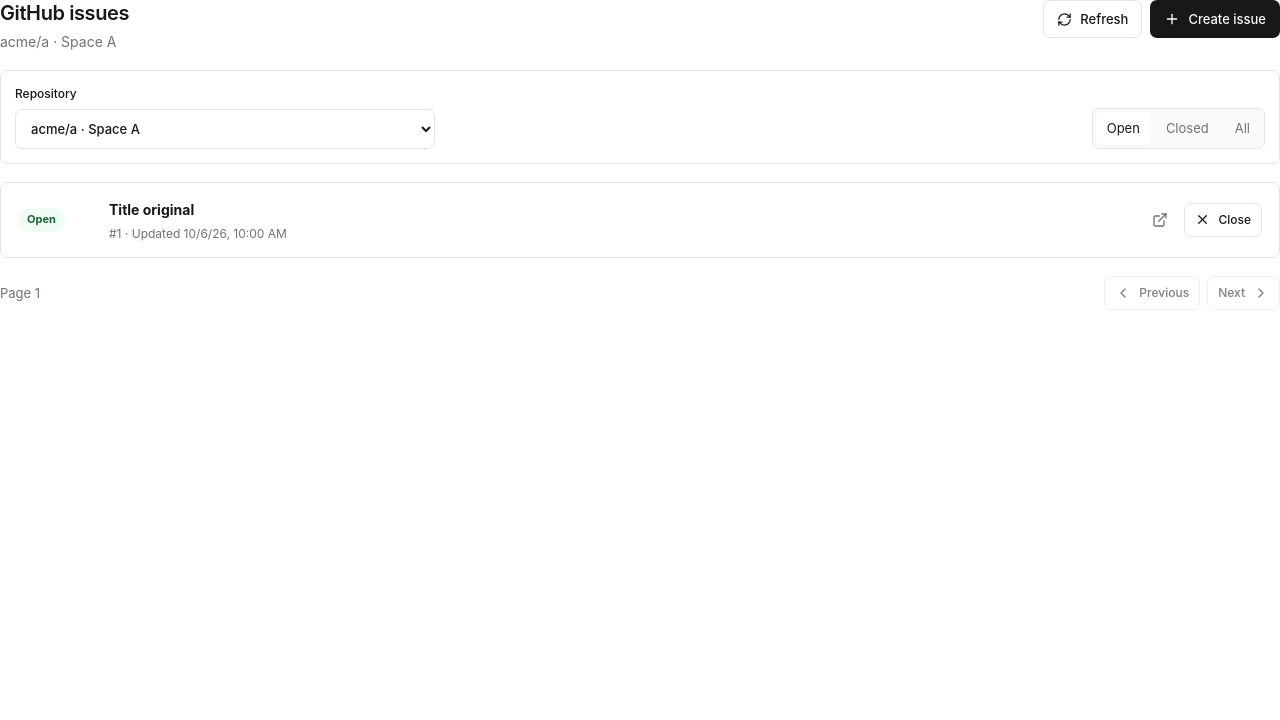
Test: preserves title and body when the remote update fails
Click the button "Title original": [152, 210] box [109,198,194,222]
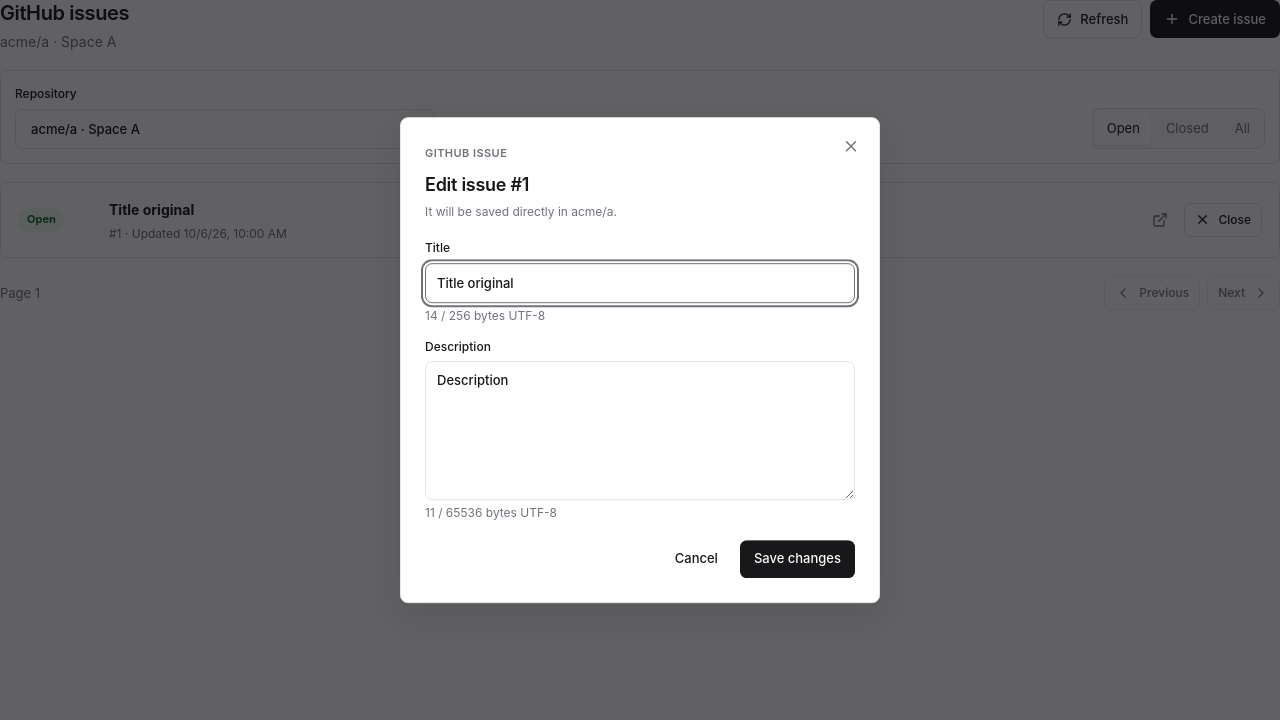
Replace the text in the field labelled "Title" with "Edited title": [640, 283] box [425,263,855,303]
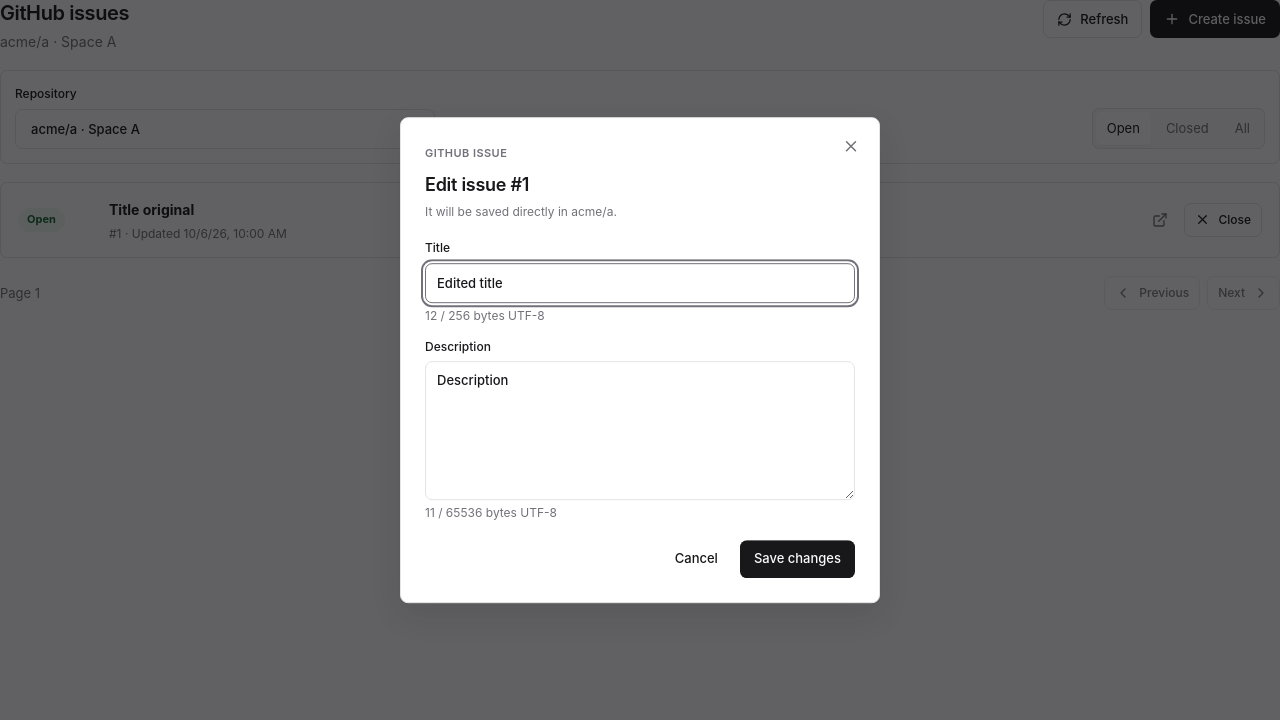
Replace the text in the text box labelled "Description" with "Revised body": [640, 431] box [425,362,855,500]
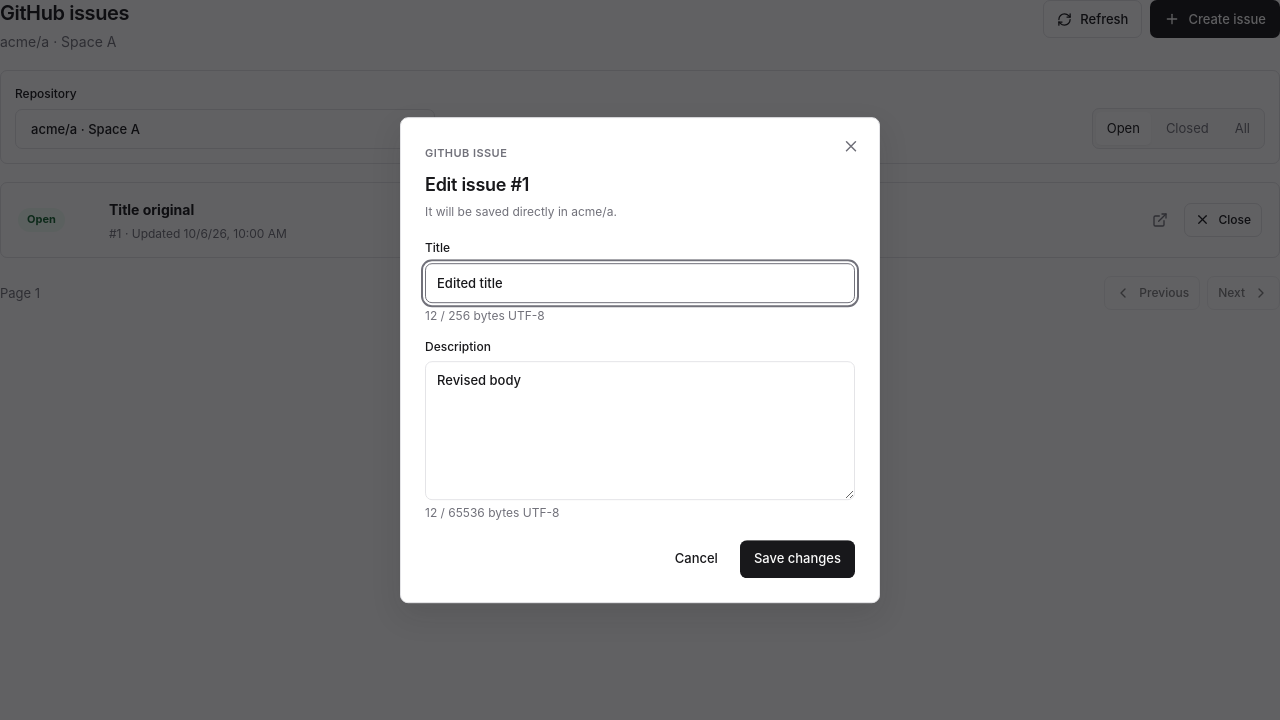
Click the button "Save changes": [797, 559] box [740,540,855,578]
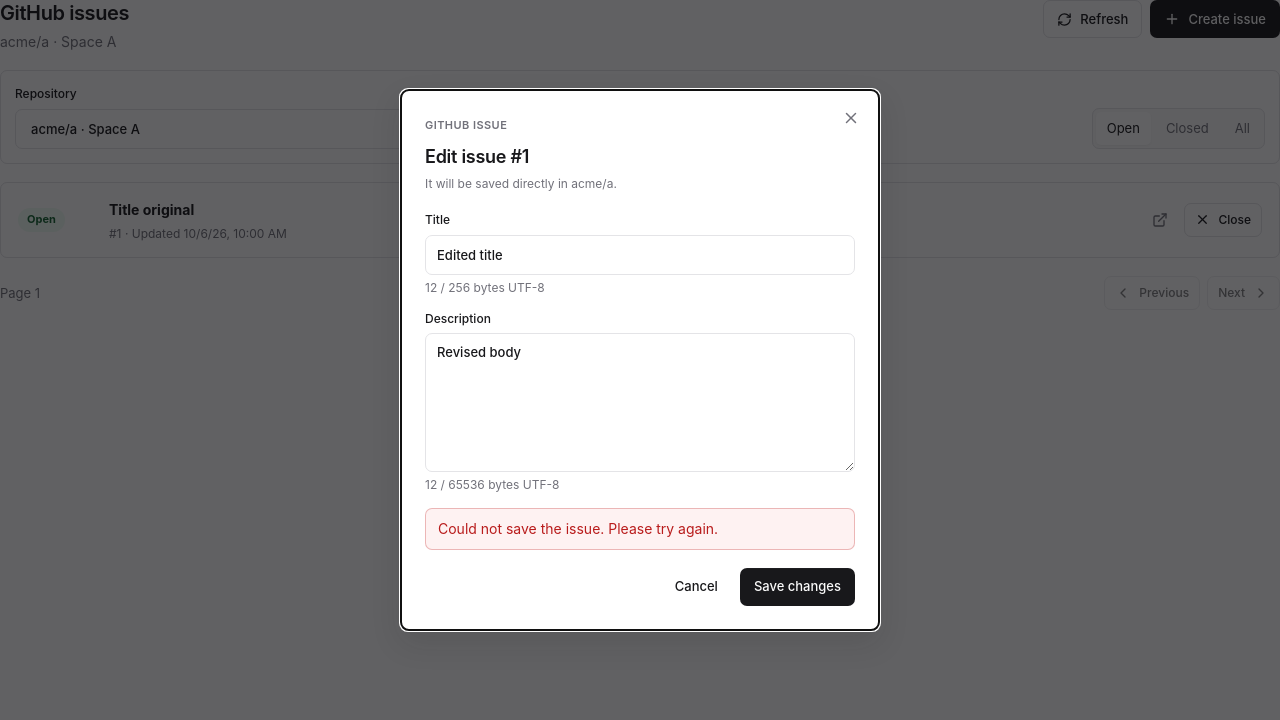
Result: the heading "Edit issue #1" is shown at [425,146,529,167]
Result: the message shows "Could not save the issue." at [438,520,718,537]
